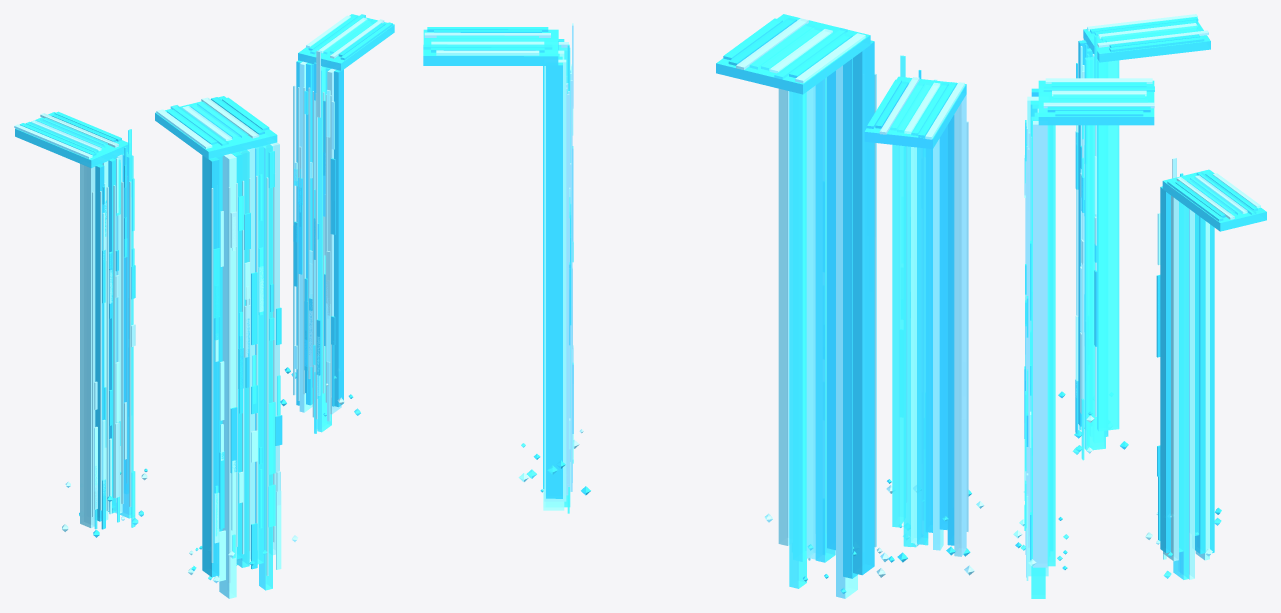
The model's file is WF-001-water.glb.
3 renders of one model, left to right at view 1: azimuth 30°, elevation 25°; view 2: azimuth 150°, elevation 25°; view 3: azimuth 270°, elevation 25°, orthographic. The views are drawn at different scales.
Visible parts, largest first — view 1: Low-poly waterfall; view 2: Low-poly waterfall; view 3: Low-poly waterfall.
Boxes of the visible parts, x1,y1,x2,y2 form: Low-poly waterfall: [14, 14, 394, 598]; Low-poly waterfall: [423, 14, 984, 598]; Low-poly waterfall: [1013, 14, 1266, 598].
Size of the model in its own units: 3.64 by 4.13 by 1.89.
